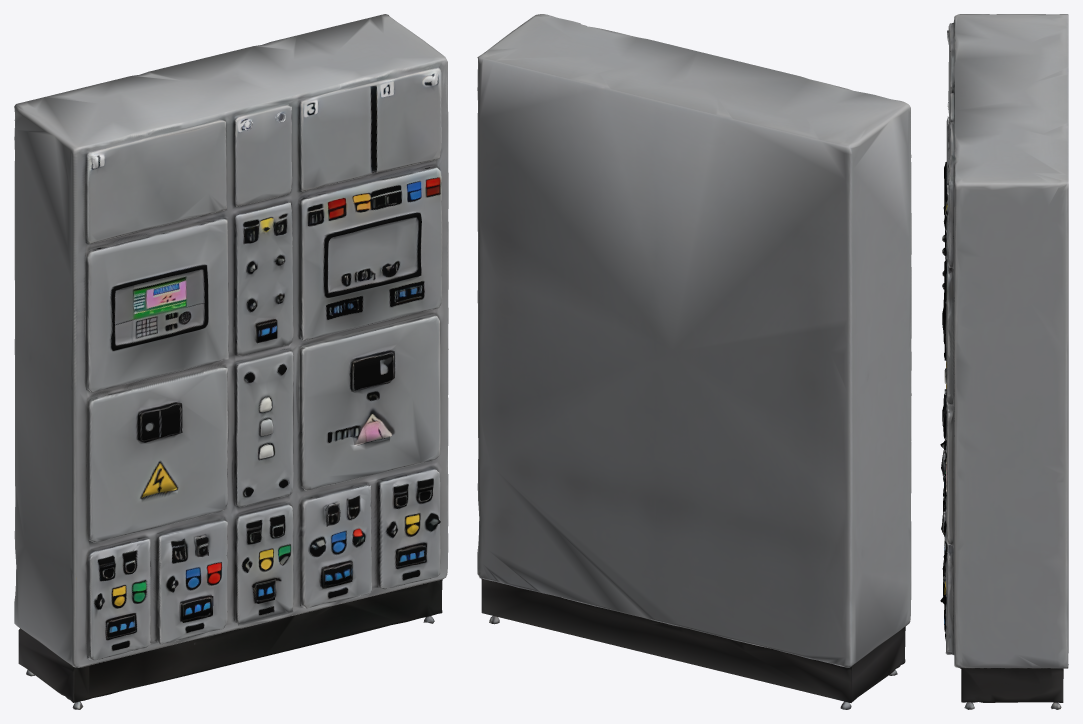
Rendered from electrical_control_panel_unit.glb.
The picture shows the model from 3 angles, left to right: view 1: azimuth 30°, elevation 25°; view 2: azimuth 150°, elevation 25°; view 3: azimuth 270°, elevation 25°; orthographic projection. The views are drawn at different scales.
Visible parts, largest first — view 1: Object_2; view 2: Object_2; view 3: Object_2.
Boxes of the visible parts, <box> form: Object_2: <box>14,14,448,709</box>; Object_2: <box>477,14,911,709</box>; Object_2: <box>940,14,1068,709</box>.
Size of the model in its own units: 1.31 by 1.9 by 0.4165.
1 material, 1 textured.
